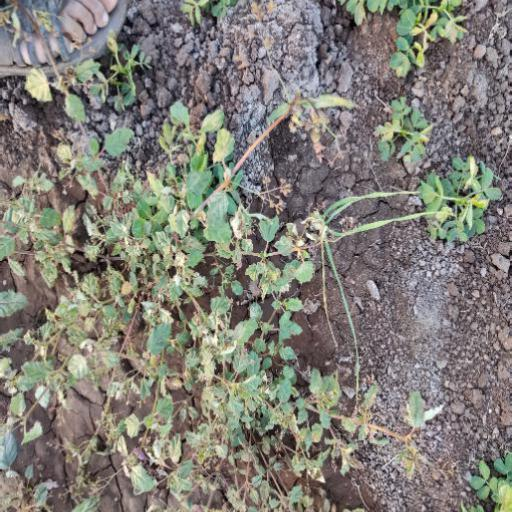weed: (23, 133, 354, 508)
